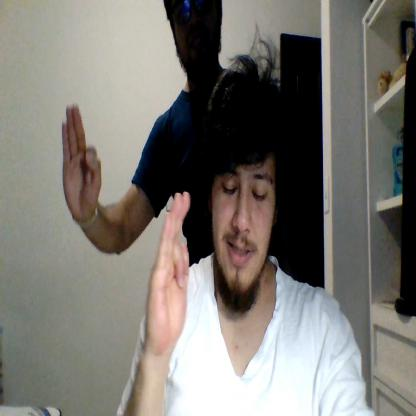F: (144, 192, 190, 348), (62, 104, 101, 218)
